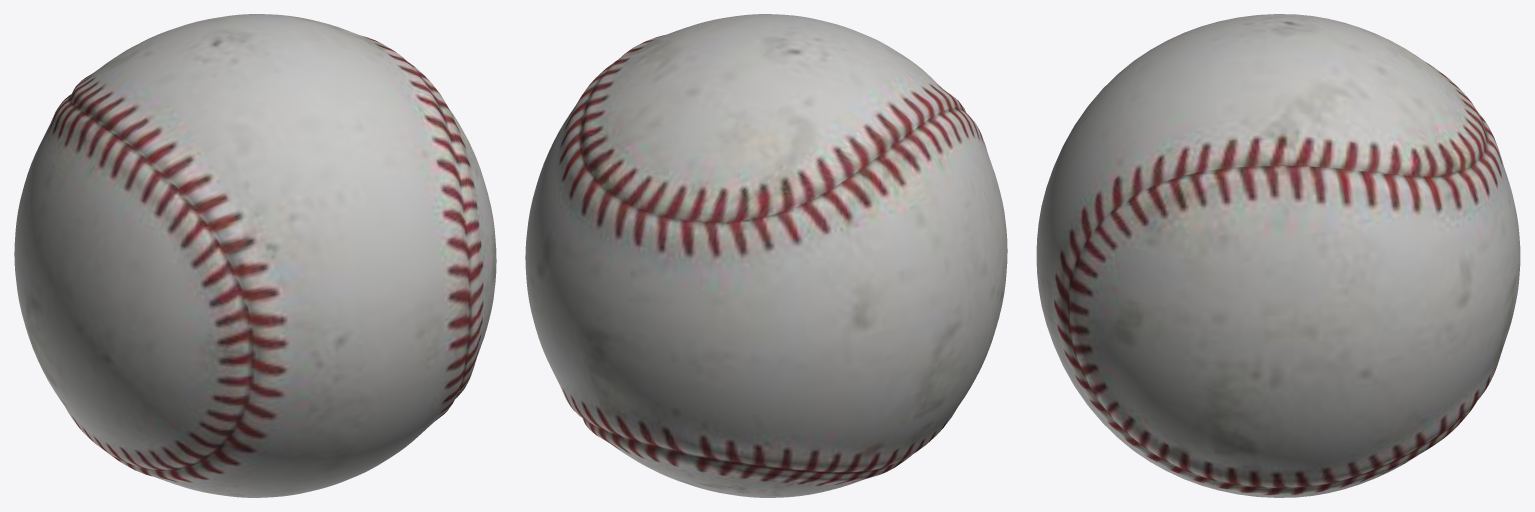
File: baseball_01.gltf
3 views of the same model, side by side, from view 1: azimuth 30°, elevation 25°; view 2: azimuth 150°, elevation 25°; view 3: azimuth 270°, elevation 25° (orthographic).
Visible parts, largest first — view 1: baseball_01; view 2: baseball_01; view 3: baseball_01.
Part boxes in pixels (x1,y1,x2,y2): baseball_01: (14, 14, 496, 497); baseball_01: (525, 14, 1007, 497); baseball_01: (1036, 14, 1520, 497).
Bounding box in the file's own units: 0.0735 × 0.0753 × 0.0752.
1 material, 1 textured.
